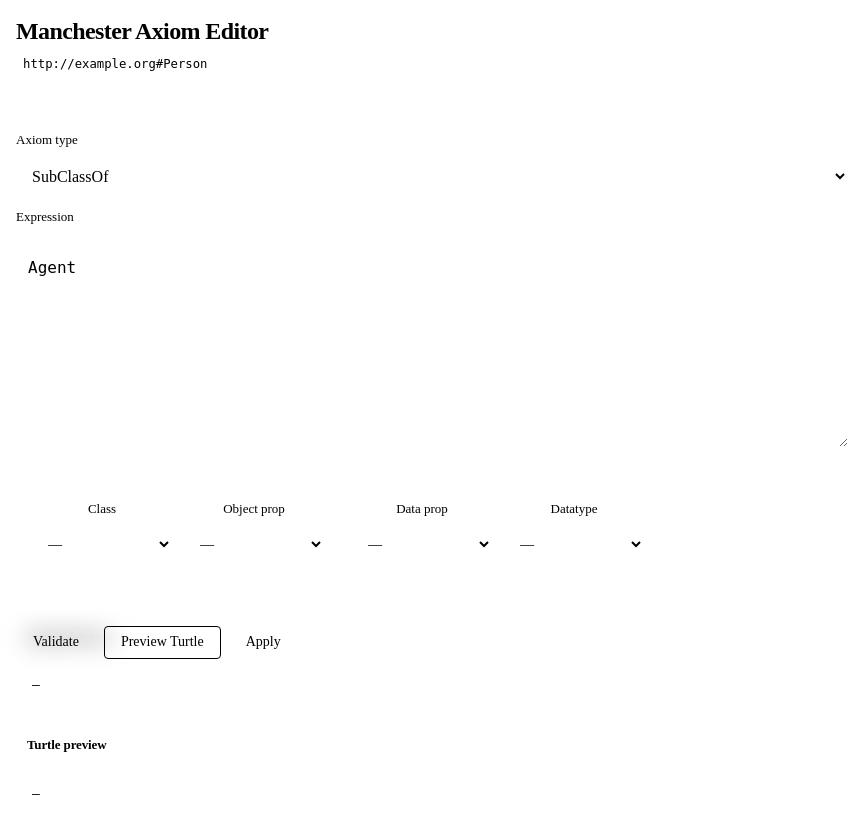
ManchesterEditorPanel › shows validation diagnostics and turtle preview
This screenshot has width=864, height=819.
Check: the text "http://example.org#Person" is shown, box [16,55,214,73]
seq may not match - need to trigger validate first with fake timers or manual validate click
Click the button "Validate". click: [56, 643]
box: [16,626,96,659]
(page scrolled)
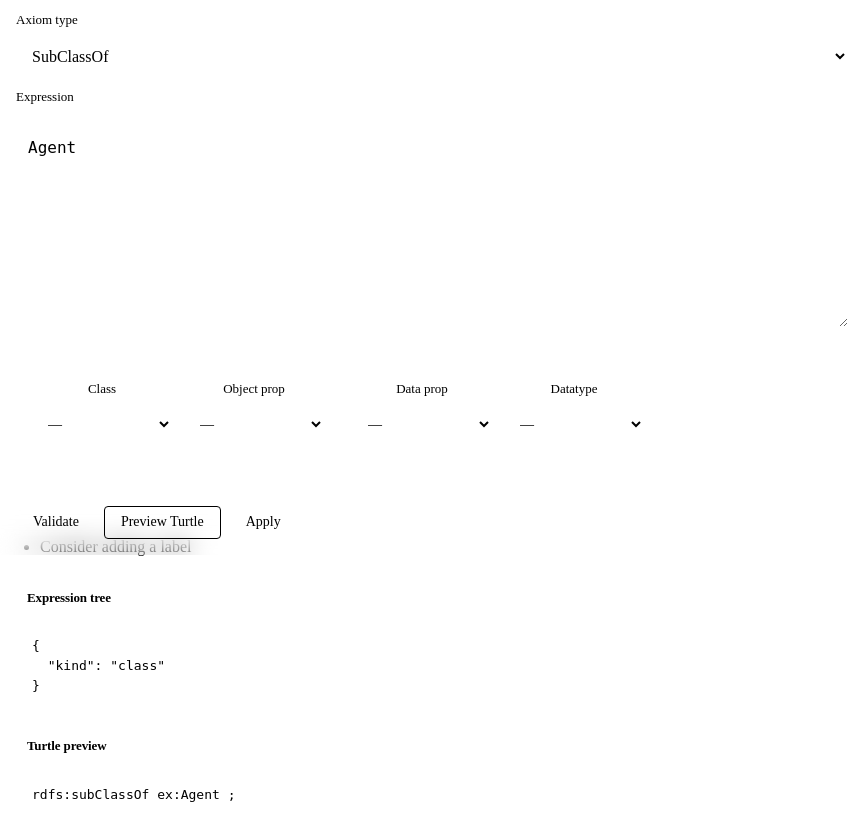
Check: the list item "Consider adding a label" is shown, box [40,538,192,555]
Check: the text "rdfs:subClassOf ex:Agent ;" is shown, box [32,787,236,802]
